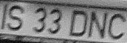3: (32, 5, 46, 33), (48, 7, 61, 35)
C: (109, 10, 126, 42)
D: (68, 8, 88, 38)
I: (1, 1, 10, 32)
N: (87, 9, 107, 39)
S: (7, 4, 26, 32)
